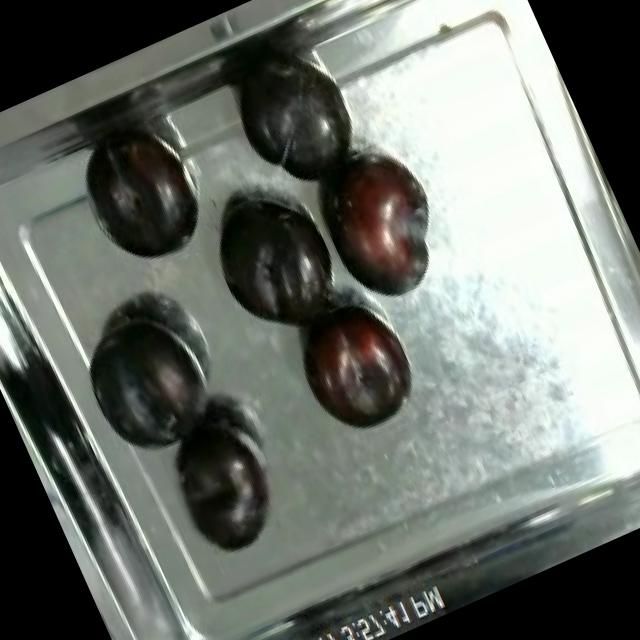Fruit: (298, 126, 474, 324), (186, 171, 354, 364), (211, 31, 381, 212), (65, 294, 232, 475), (63, 112, 227, 288), (274, 282, 432, 452), (148, 400, 296, 571)
